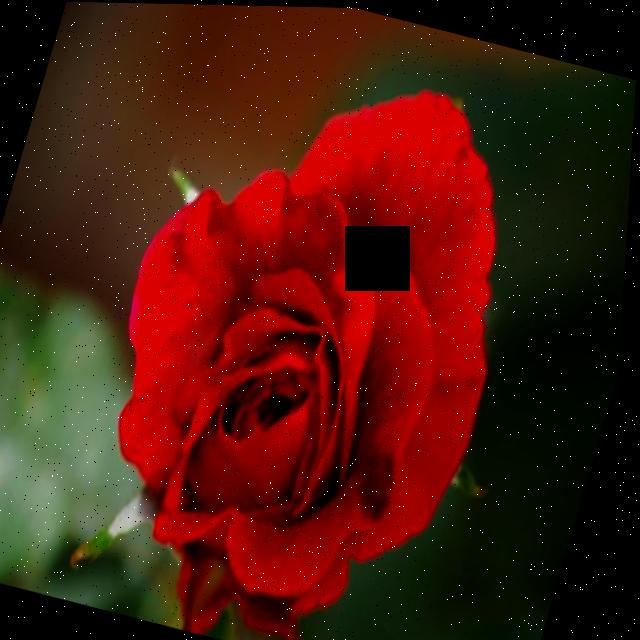rose: (79, 26, 564, 640)
